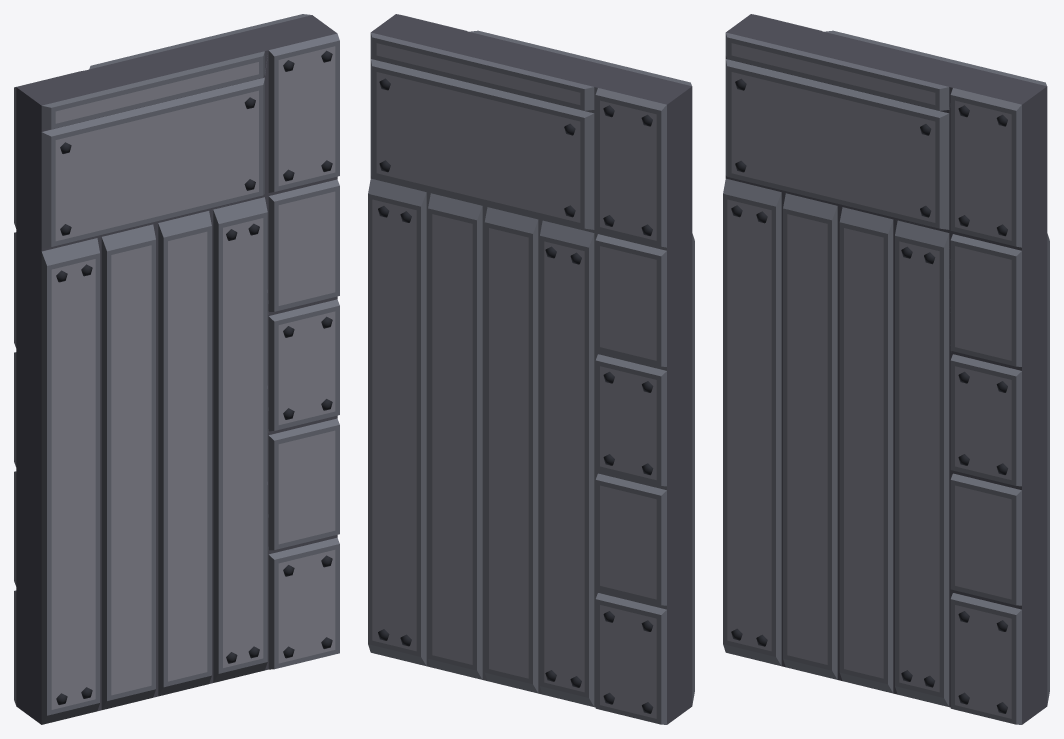
File: MetalBoltsWall.glb
3 renders of one model, left to right at view 1: azimuth 30°, elevation 25°; view 2: azimuth 150°, elevation 25°; view 3: azimuth 330°, elevation 25°, orthographic.
Parts seen in each view (by area): view 1: wall_BoltPanels; view 2: wall_BoltPanels; view 3: wall_BoltPanels.
Boxes of the visible parts, box(x1,y1,x2,y2) form: wall_BoltPanels: box(14, 14, 339, 724); wall_BoltPanels: box(368, 14, 694, 724); wall_BoltPanels: box(723, 14, 1049, 724).
Size of what is drawn, in the model's own units: 2 by 4 by 0.4492.
1 material, 1 textured.
